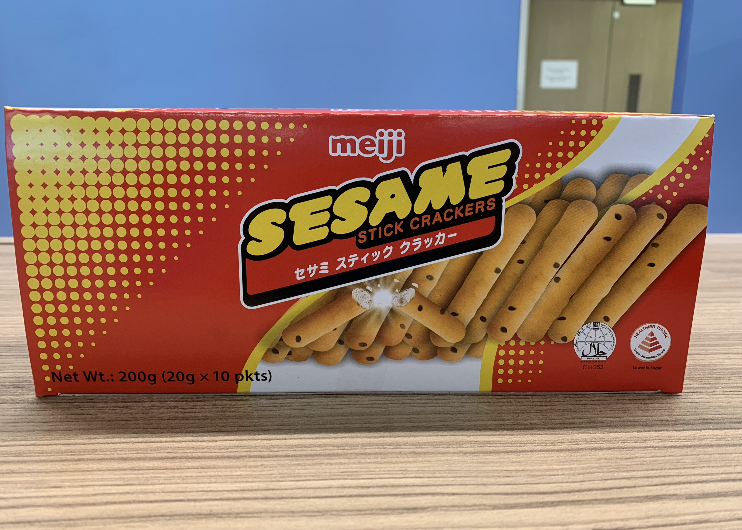crackers_150g: (37, 123, 681, 387)
